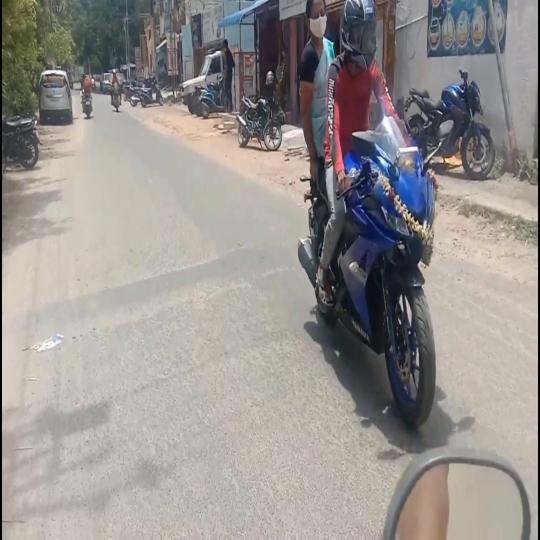Speed Bump: (2, 236, 297, 354)
